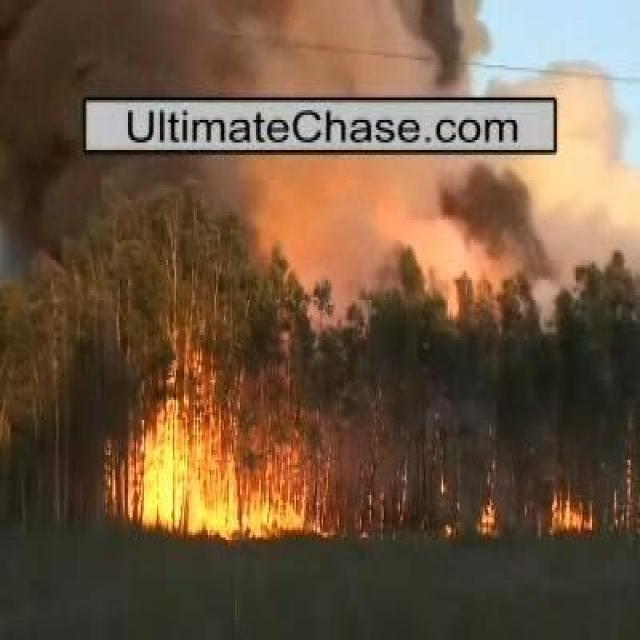fire: (141, 438, 243, 531)
smoke: (47, 5, 490, 85), (252, 154, 549, 250)
